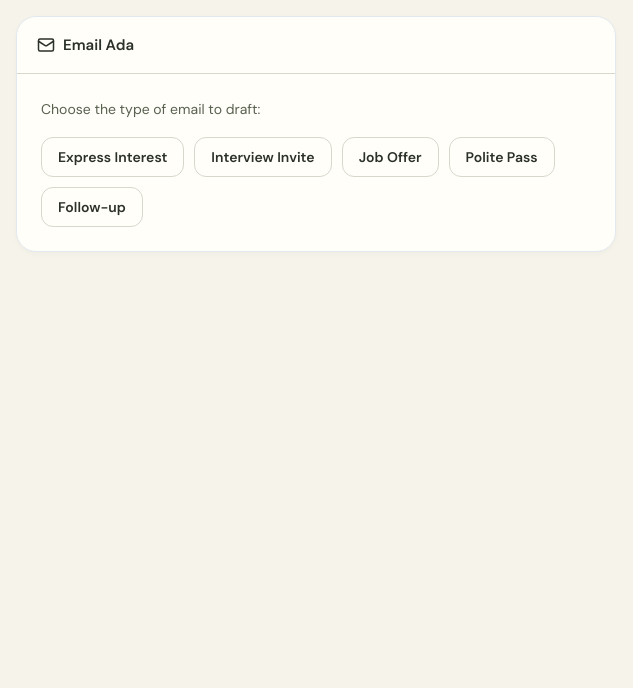
Test: fields say what they are for › the email composer
Note: The form shows once a kind of email is chosen and its draft is back.
Click the button "Interview Invite": click(263, 157) [194, 137, 332, 177]
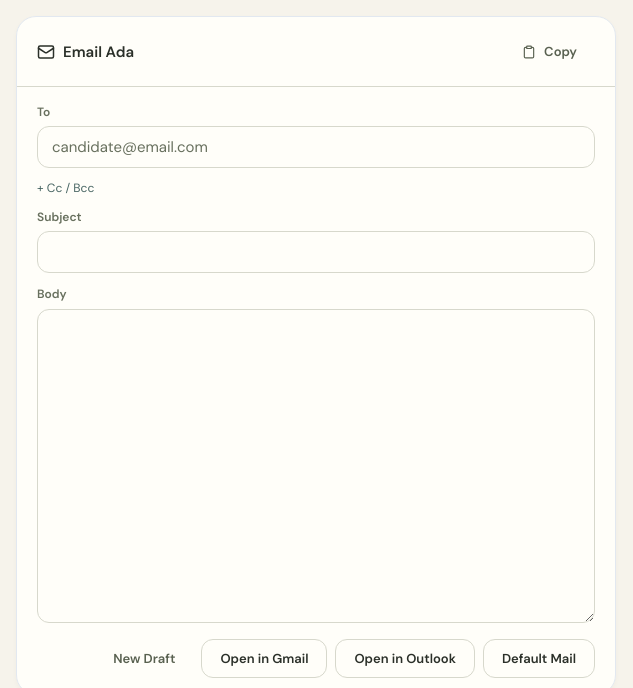
Expected: the field labelled "To" is shown, [37, 126, 595, 168]
Expected: the field labelled "Subject" is shown, [37, 231, 595, 273]
Expected: the text box labelled "Body" is shown, [37, 309, 595, 623]
Click the button "+ Cc / Bcc": click(66, 188) [37, 180, 595, 196]
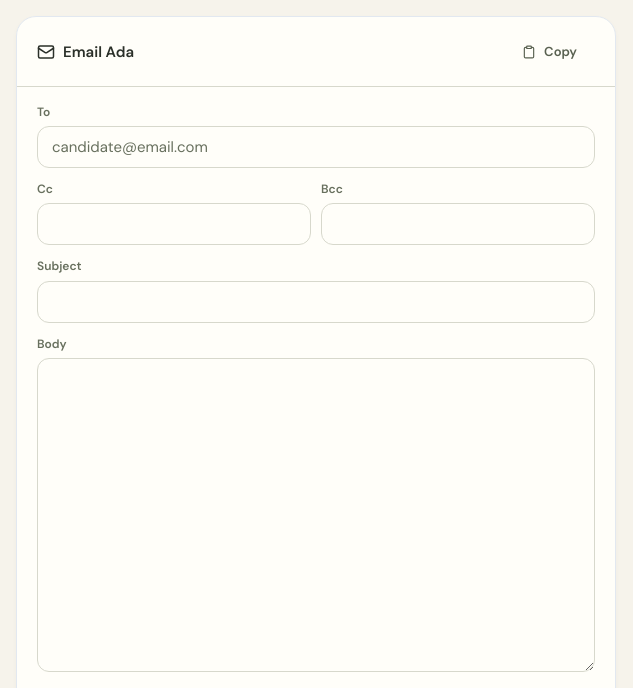
Expected: the field labelled "Cc" is shown, [37, 203, 311, 245]
Expected: the field labelled "Bcc" is shown, [321, 203, 595, 245]
